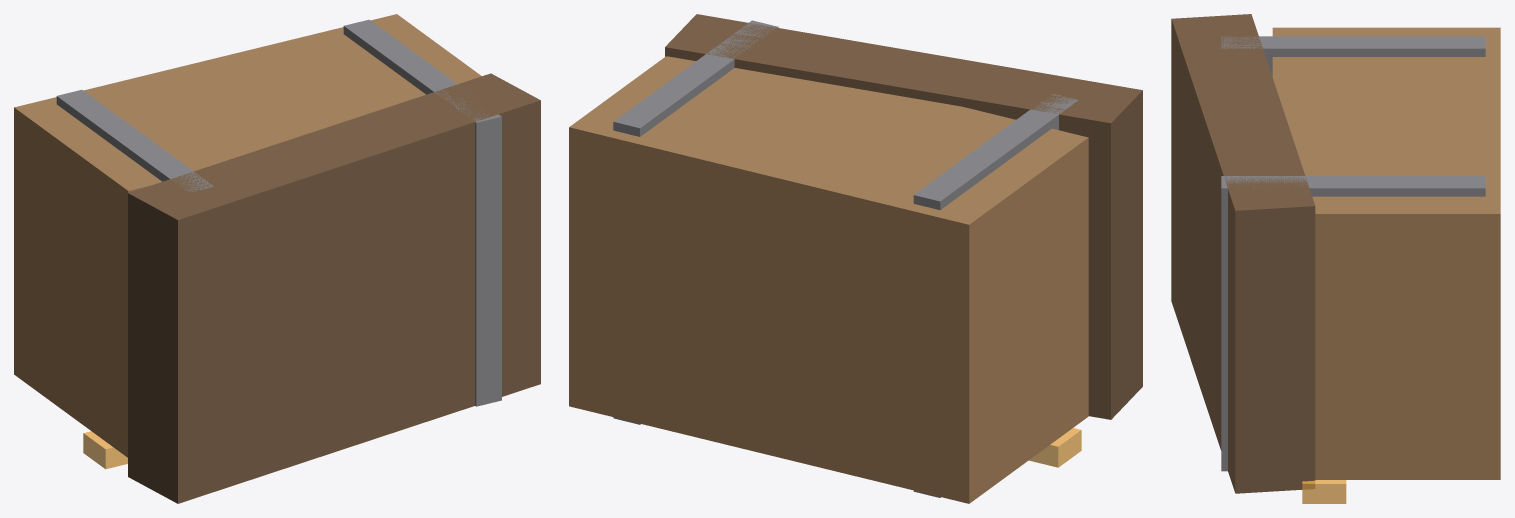
Rendered from loot_chest_legendary.glb.
3 renders of one model, left to right at view 1: azimuth 30°, elevation 25°; view 2: azimuth 150°, elevation 25°; view 3: azimuth 270°, elevation 25°, orthographic. The views are drawn at different scales.
Visible parts, largest first — view 1: lid, chest_body, side_band_r, side_band_l, front_band; view 2: chest_body, lid, side_band_l, side_band_r, front_band; view 3: chest_body, lid, side_band_r, side_band_l, front_band.
Boxes of the visible parts, x1=… form: lid: x1=128, y1=73, x2=540, y2=503; chest_body: x1=14, y1=14, x2=481, y2=457; side_band_r: x1=343, y1=19, x2=501, y2=406; side_band_l: x1=56, y1=89, x2=213, y2=191; front_band: x1=83, y1=431, x2=127, y2=469; chest_body: x1=569, y1=56, x2=1088, y2=503; lid: x1=665, y1=14, x2=1142, y2=419; side_band_l: x1=913, y1=94, x2=1078, y2=497; side_band_r: x1=613, y1=20, x2=778, y2=424; front_band: x1=1029, y1=428, x2=1081, y2=467; chest_body: x1=1272, y1=27, x2=1500, y2=479; lid: x1=1171, y1=14, x2=1315, y2=493; side_band_r: x1=1221, y1=176, x2=1485, y2=471; side_band_l: x1=1221, y1=36, x2=1485, y2=76; front_band: x1=1302, y1=480, x2=1346, y2=503.
Bounding box in the file's own units: 1.27 × 0.915 × 0.8959.
